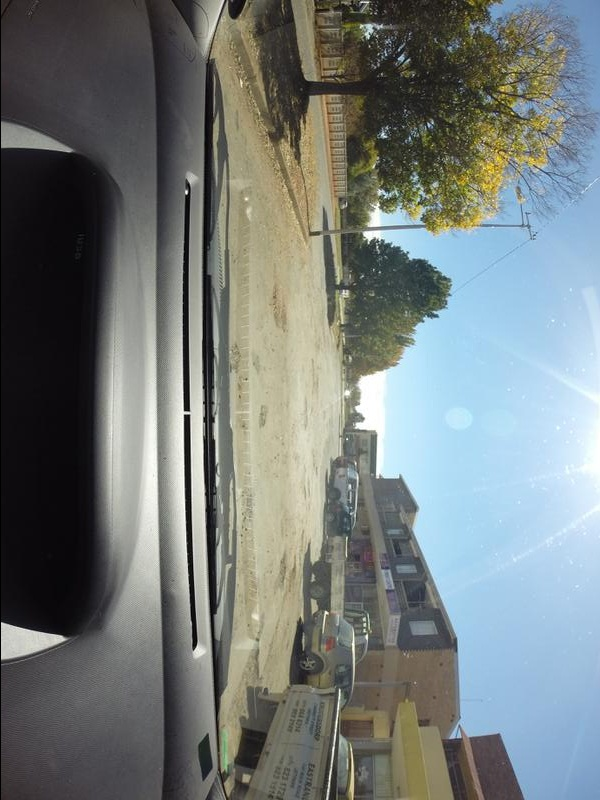pothole: (269, 284, 285, 332), (230, 341, 244, 383), (255, 404, 271, 436)
